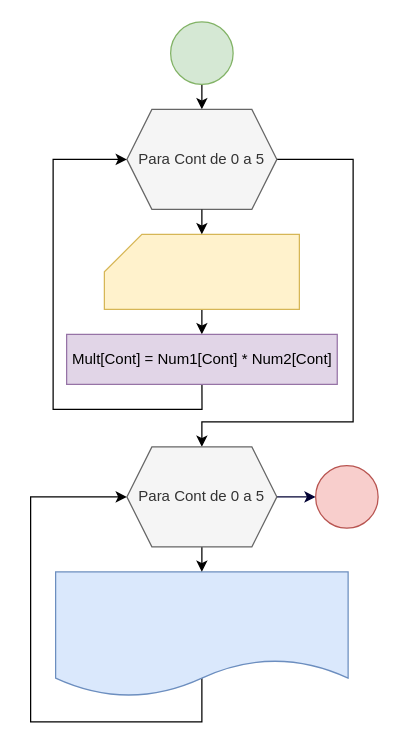
This 400x754 diagram has some shape labels left out. Each missing label, with the centre of its shape:
Num1[Cont]" x "Num2[Cont]" = "Mult[Cont]: (x=201, y=634)
Num1[Cont], Num2[Cont]: (x=201, y=271)
